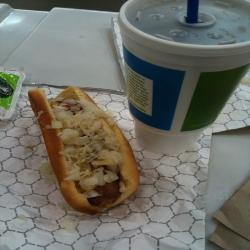hotdog: (27, 84, 151, 221)
